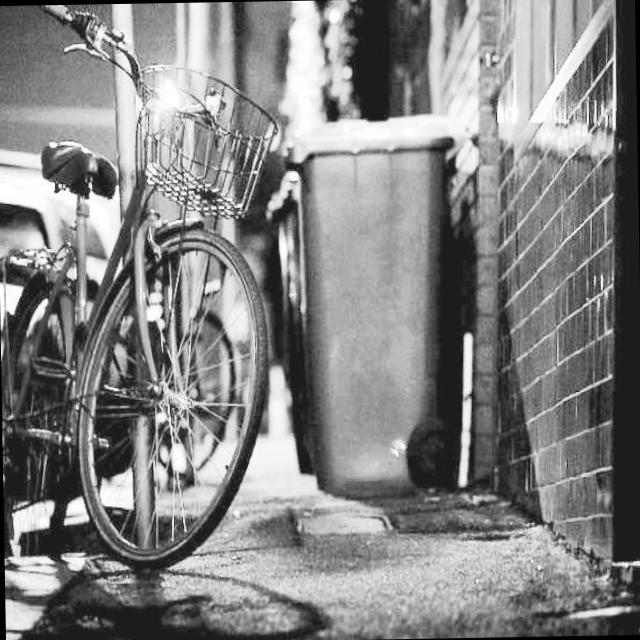Bicycle: (0, 13, 310, 602)
